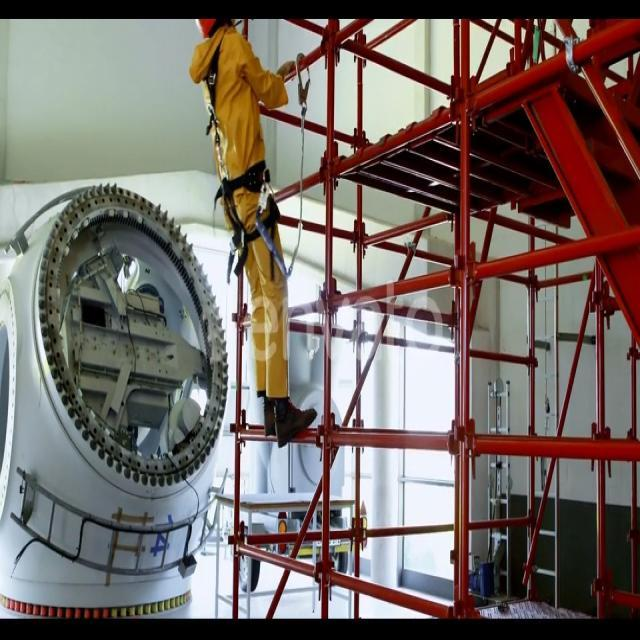belt: (198, 40, 284, 278)
